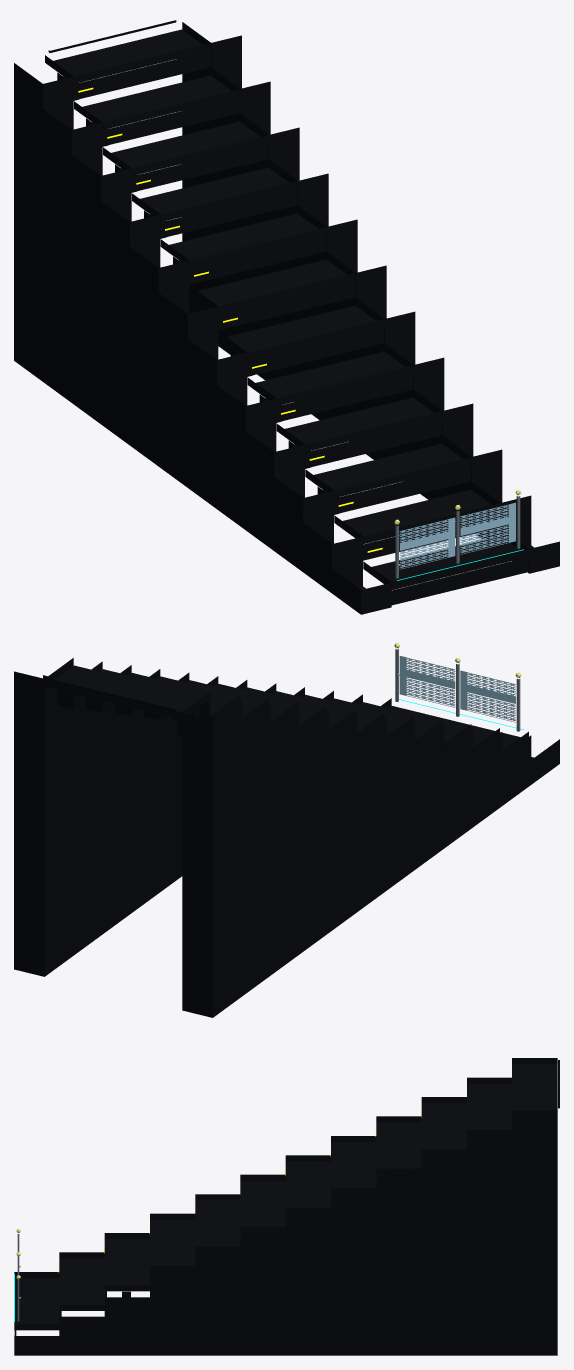
The model's file is tt_stand_module_f3_3p8.glb.
3 renders of one model, top to bottom at view 1: azimuth 30°, elevation 25°; view 2: azimuth 150°, elevation 25°; view 3: azimuth 270°, elevation 25°, orthographic. The views are drawn at different scales.
Visible parts, largest first — view 1: Aisle_Solid, Tier_Slabs, Risers, Guard_Scissor, Beams; view 2: Aisle_Solid, Tier_Slabs, Guard_Scissor, Beams, Rail_Posts; view 3: Aisle_Solid, Tier_Slabs, Beams.
Part boxes in pixels (left/top/right/bottom): Aisle_Solid: left=14, top=22, right=559, bottom=614; Tier_Slabs: left=45, top=29, right=528, bottom=589; Risers: left=73, top=51, right=528, bottom=605; Guard_Scissor: left=399, top=502, right=515, bottom=569; Beams: left=48, top=20, right=459, bottom=514; Aisle_Solid: left=14, top=658, right=559, bottom=1017; Tier_Slabs: left=45, top=665, right=528, bottom=753; Guard_Scissor: left=399, top=656, right=515, bottom=722; Beams: left=48, top=678, right=199, bottom=735; Rail_Posts: left=395, top=649, right=520, bottom=731; Aisle_Solid: left=14, top=1058, right=557, bottom=1355; Tier_Slabs: left=14, top=1064, right=557, bottom=1330; Beams: left=122, top=1060, right=559, bottom=1297.
Size of what is drawn, in the model's own units: 3.77 by 5.45 by 11.46.
Materials: 8 (4 with a texture image).
